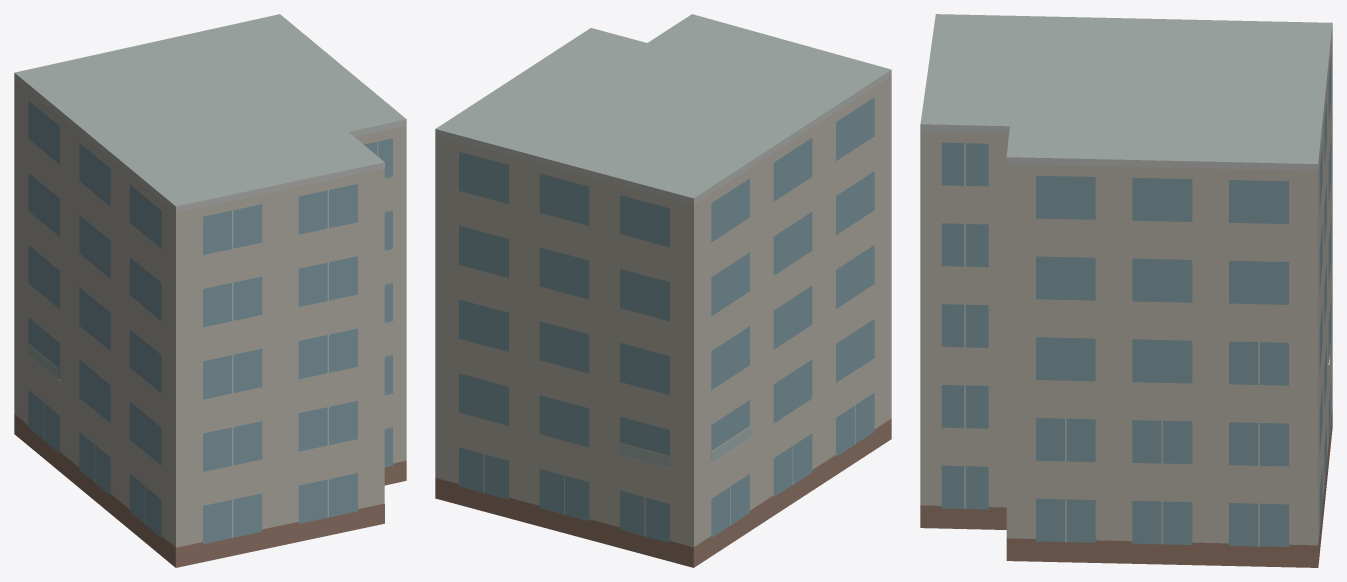
Rendered from survey-upis-32676402.glb.
The picture shows the model from 3 angles, left to right: view 1: azimuth 30°, elevation 25°; view 2: azimuth 150°, elevation 25°; view 3: azimuth 270°, elevation 25°; orthographic projection. The views are drawn at different scales.
Visible parts, largest first — view 1: survey-upis-32676402.tmp; view 2: survey-upis-32676402.tmp; view 3: survey-upis-32676402.tmp.
Part boxes in pixels (bbox=[...]): survey-upis-32676402.tmp: bbox=[14, 14, 406, 567]; survey-upis-32676402.tmp: bbox=[435, 14, 891, 567]; survey-upis-32676402.tmp: bbox=[920, 14, 1332, 567].
Size of the model in its own units: 11.33 by 14.2 by 13.15.
